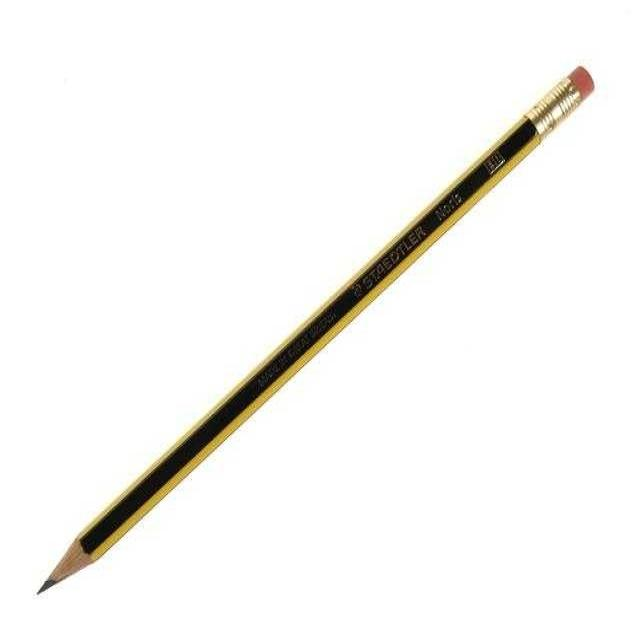pencil: (31, 47, 618, 604)
